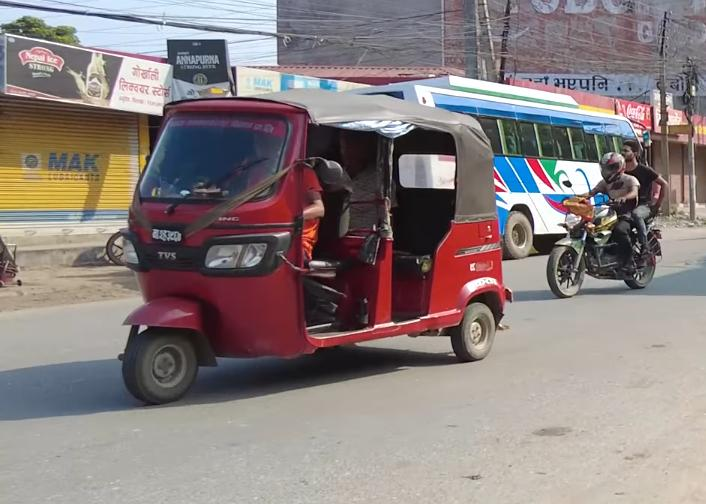auto_rickshaw: (111, 85, 514, 404)
